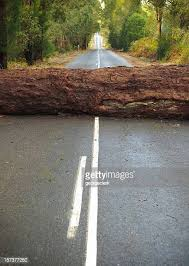obstacle: (1, 64, 189, 117)
